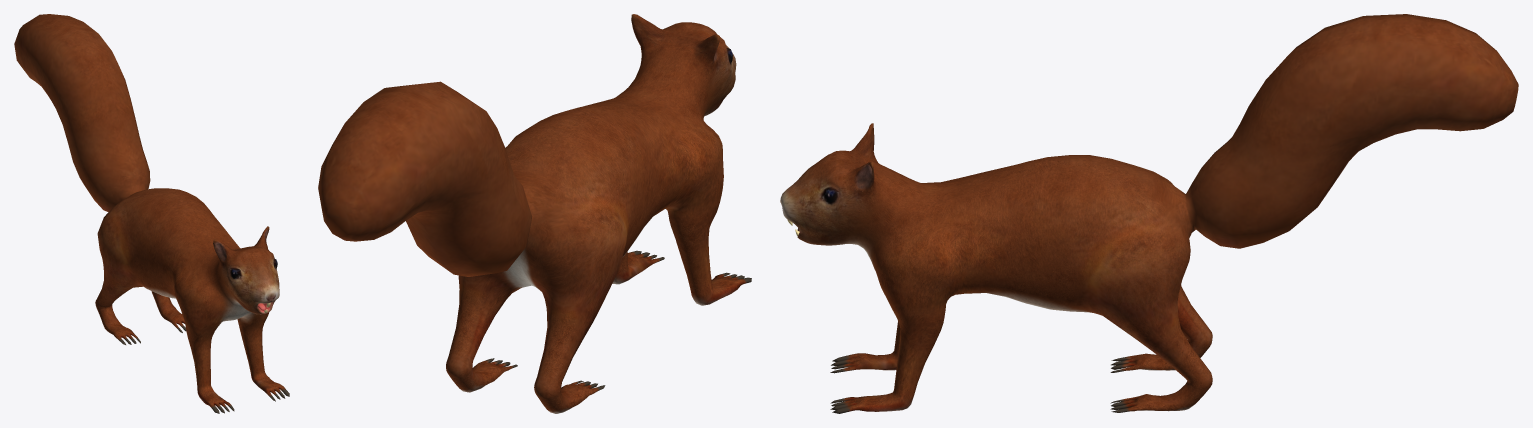
The model's file is ardilla1.glb.
3 views of the same model, side by side, from view 1: azimuth 30°, elevation 25°; view 2: azimuth 150°, elevation 25°; view 3: azimuth 270°, elevation 25° (orthographic). The views are drawn at different scales.
Visible parts, largest first — view 1: Retopology; view 2: Retopology; view 3: Retopology.
Boxes of the visible parts, box(x1,y1,x2,y2) form: Retopology: box(14, 14, 289, 413); Retopology: box(318, 14, 751, 413); Retopology: box(780, 14, 1518, 413).
Size of the model in its own units: 1.52 by 3.63 by 6.56.
Materials: 1 (1 with a texture image).
